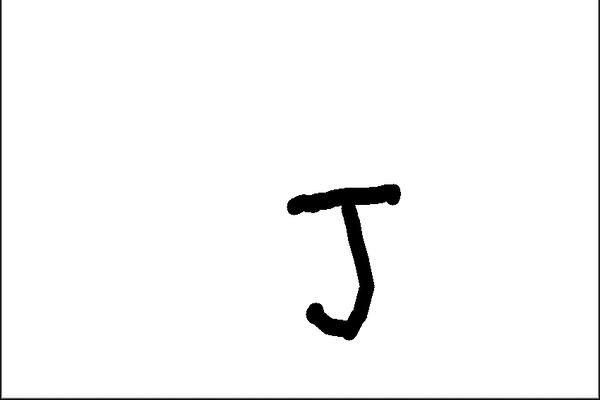J: (278, 176, 408, 345)
